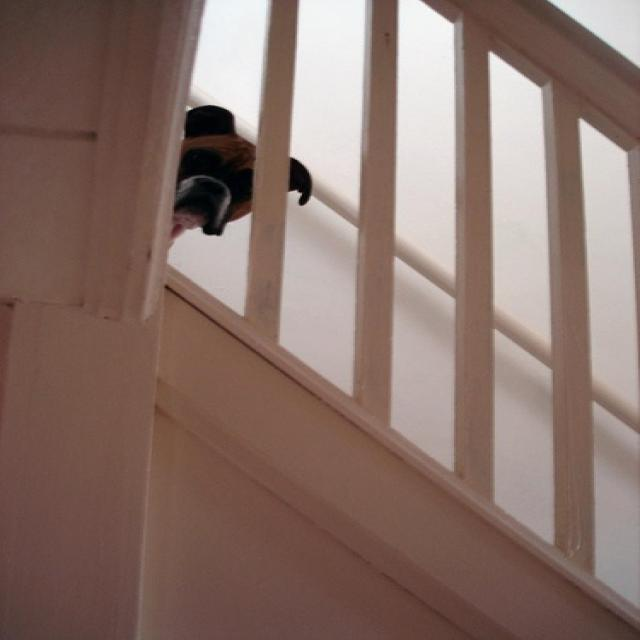dog: (168, 101, 312, 248)
